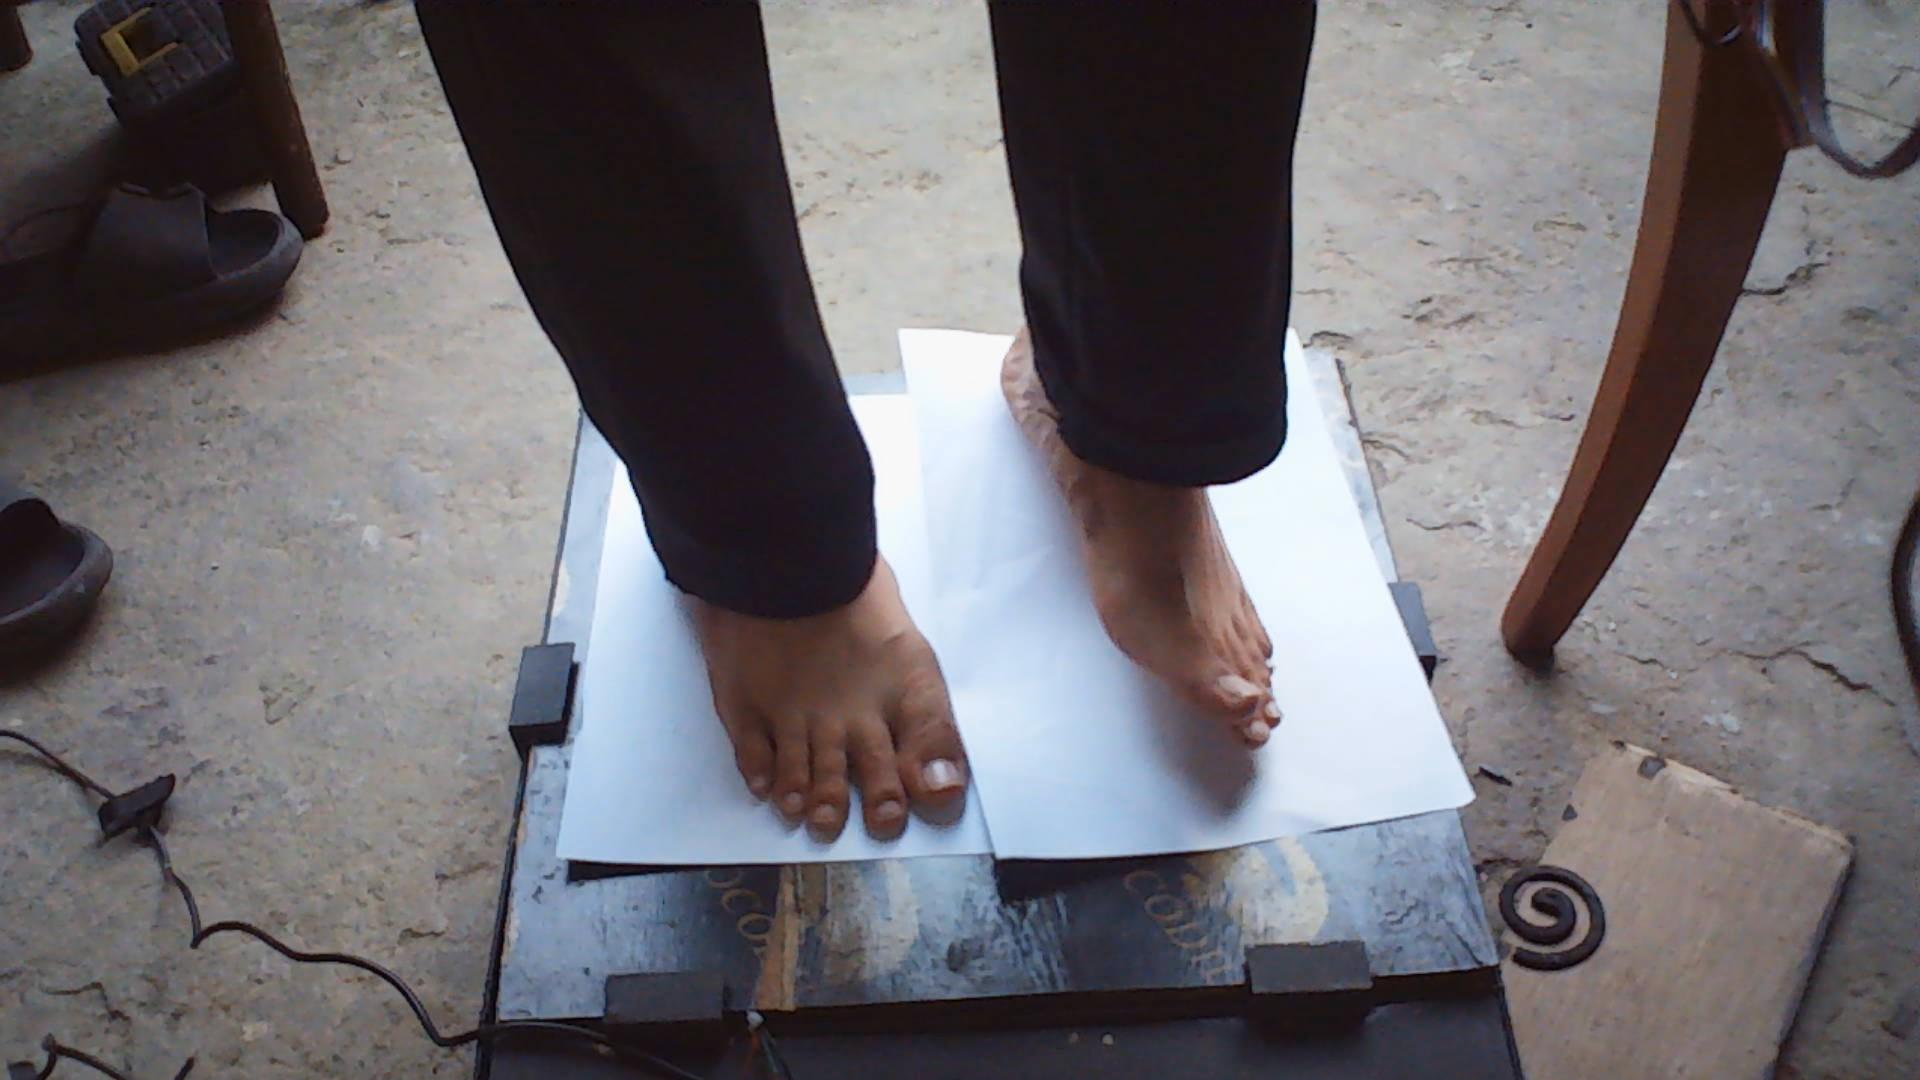Bare_feet: (642, 556, 1025, 827), (964, 481, 1327, 750)
